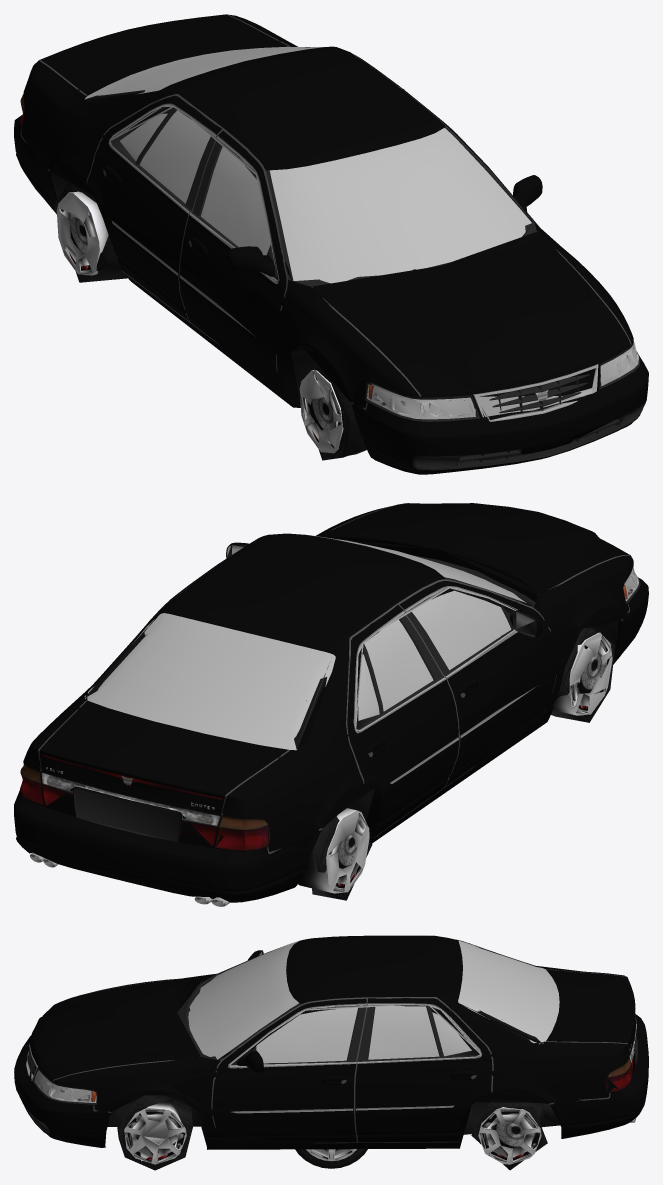
Rendered from carter.glb.
3 renders of one model, top to bottom at view 1: azimuth 30°, elevation 25°; view 2: azimuth 150°, elevation 25°; view 3: azimuth 270°, elevation 25°, orthographic. The views are drawn at different scales.
Visible parts, largest first — view 1: kit0, glass0, far, glass1, kit1; view 2: kit0, far, glass0, kit1, glass1; view 3: kit0, glass0, far, kit1, glass1, wheel0.
Part boxes in pixels (box(x1,y1,x2,y2)): kit0: box(14, 14, 648, 474); glass0: box(98, 47, 531, 282); far: box(21, 31, 646, 474); glass1: box(84, 46, 529, 283); kit1: box(15, 14, 648, 474); kit0: box(14, 503, 648, 906); far: box(28, 503, 637, 900); glass0: box(85, 535, 524, 738); kit1: box(14, 507, 648, 906); glass1: box(84, 542, 526, 750); kit0: box(14, 935, 648, 1149); glass0: box(189, 941, 545, 1063); far: box(22, 935, 636, 1170); kit1: box(15, 945, 646, 1148); glass1: box(188, 940, 559, 1063); wheel0: box(295, 1149, 367, 1168).
Size of the model in its own units: 2.09 by 1.76 by 5.02.
Materials: 1 (1 with a texture image).
